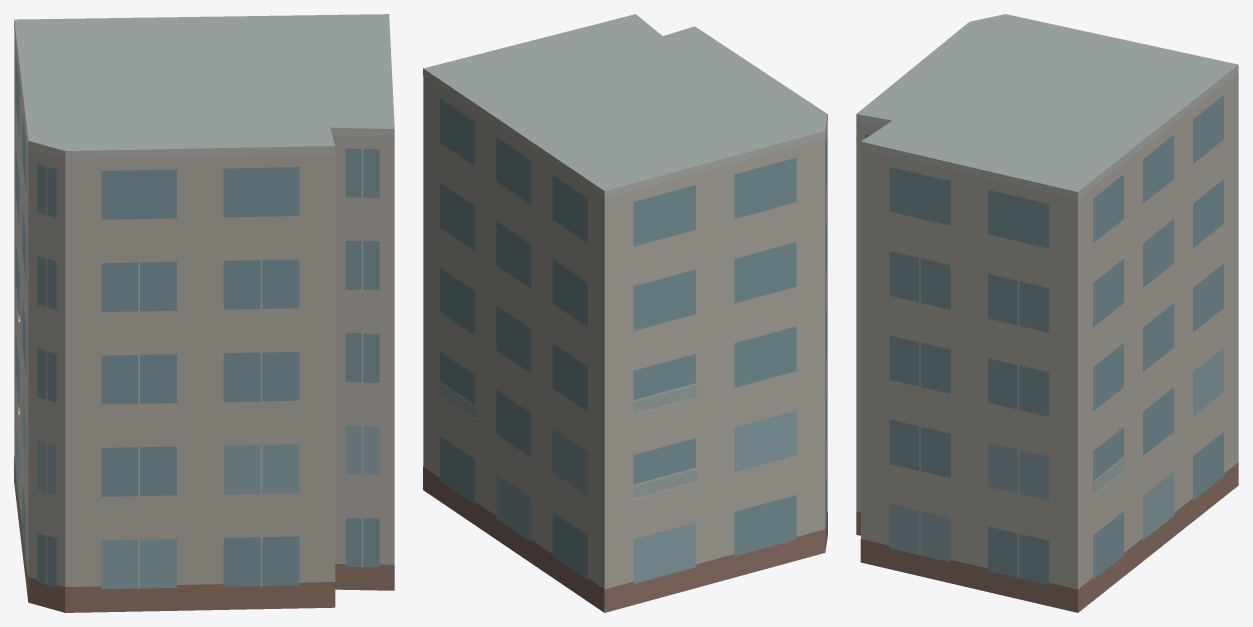
File: survey-upis-32619906.glb
3 renders of one model, left to right at view 1: azimuth 30°, elevation 25°; view 2: azimuth 150°, elevation 25°; view 3: azimuth 270°, elevation 25°, orthographic. The views are drawn at different scales.
Visible parts, largest first — view 1: survey-upis-32619906.tmp; view 2: survey-upis-32619906.tmp; view 3: survey-upis-32619906.tmp.
Part boxes in pixels (x1,y1,x2,y2): survey-upis-32619906.tmp: (14, 14, 394, 612); survey-upis-32619906.tmp: (423, 14, 827, 612); survey-upis-32619906.tmp: (856, 14, 1238, 612).
Bounding box in the file's own units: 12.9 × 14.2 × 11.7.
